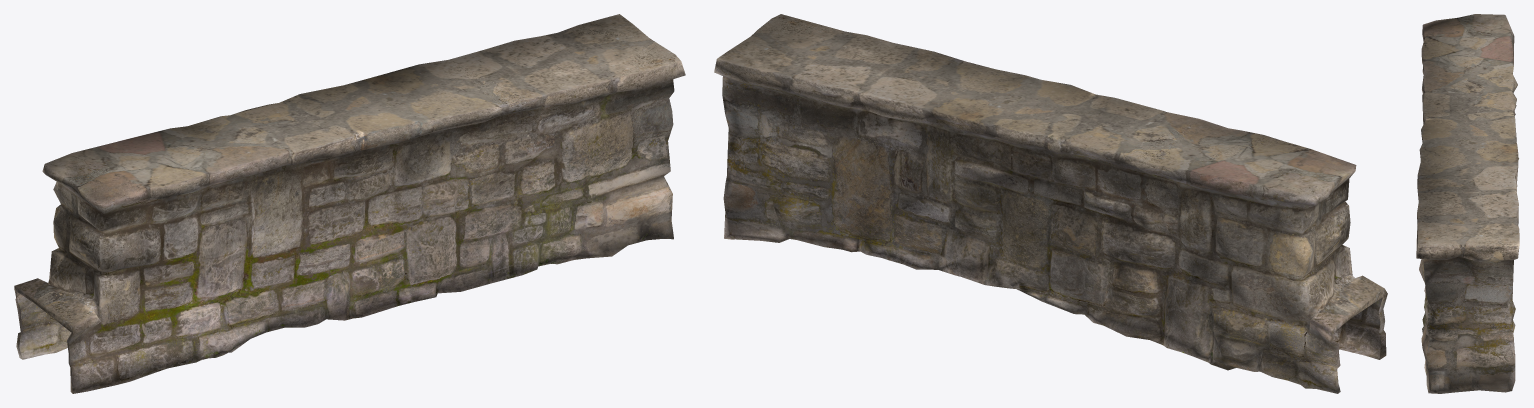
The model's file is wall.obj.
The picture shows the model from 3 angles, left to right: view 1: azimuth 30°, elevation 25°; view 2: azimuth 150°, elevation 25°; view 3: azimuth 270°, elevation 25°; orthographic projection. The views are drawn at different scales.
Parts seen in each view (by area): view 1: sbxuw_LOD0_TIER3_000; view 2: sbxuw_LOD0_TIER3_000; view 3: sbxuw_LOD0_TIER3_000.
Part boxes in pixels (box(x1,y1,x2,y2)): sbxuw_LOD0_TIER3_000: box(14, 14, 685, 393); sbxuw_LOD0_TIER3_000: box(714, 14, 1387, 393); sbxuw_LOD0_TIER3_000: box(1416, 14, 1519, 393).
Size of the model in its own units: 2.3 by 0.6901 by 0.4138.
1 material, 1 textured.
